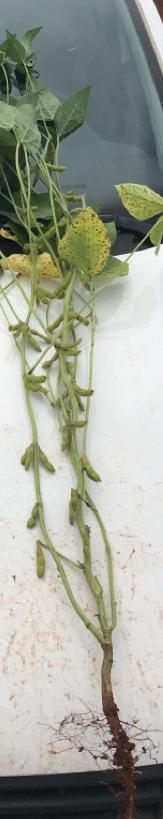soja: (30, 542, 55, 584), (82, 455, 103, 491), (36, 448, 62, 475), (22, 498, 43, 531), (71, 378, 97, 402), (21, 333, 45, 358), (42, 313, 68, 336), (29, 226, 60, 245), (69, 308, 95, 330), (64, 502, 80, 534), (34, 286, 52, 314), (78, 531, 94, 562), (22, 372, 57, 386), (49, 388, 70, 411), (10, 442, 33, 462), (66, 487, 84, 512), (57, 426, 75, 451), (20, 449, 37, 475), (38, 353, 60, 372), (38, 160, 72, 172), (63, 187, 84, 205), (61, 420, 95, 431), (19, 381, 42, 397), (71, 394, 89, 414), (78, 278, 98, 295), (57, 277, 71, 301), (22, 201, 39, 219), (62, 347, 83, 359)
